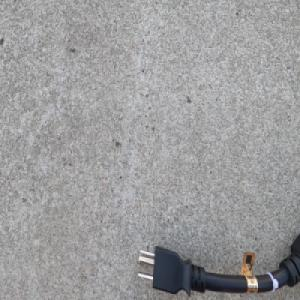Wire: (135, 229, 300, 298)
